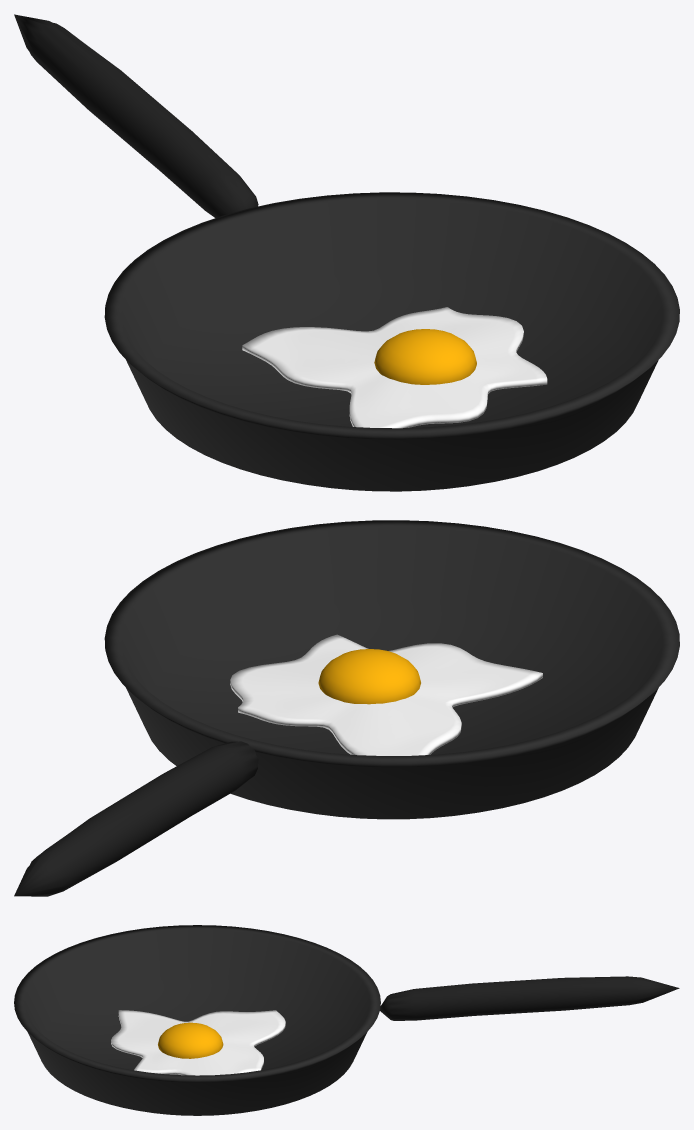
File: props-fryingpan.glb
3 renders of one model, top to bottom at view 1: azimuth 30°, elevation 25°; view 2: azimuth 150°, elevation 25°; view 3: azimuth 270°, elevation 25°, orthographic. The views are drawn at different scales.
Visible parts, largest first — view 1: FryingPan__Pan, FryingPan__EggWhite, FryingPan__Handle, FryingPan__Yolk; view 2: FryingPan__Pan, FryingPan__EggWhite, FryingPan__Handle, FryingPan__Yolk; view 3: FryingPan__Pan, FryingPan__Handle, FryingPan__EggWhite, FryingPan__Yolk.
Part boxes in pixels (x1,y1,x2,y2): FryingPan__Pan: [104, 192, 679, 491]; FryingPan__EggWhite: [242, 307, 547, 428]; FryingPan__Handle: [14, 14, 258, 217]; FryingPan__Yolk: [374, 329, 476, 384]; FryingPan__Pan: [104, 520, 679, 819]; FryingPan__EggWhite: [230, 634, 542, 755]; FryingPan__Handle: [14, 741, 258, 896]; FryingPan__Yolk: [318, 649, 420, 704]; FryingPan__Pan: [14, 925, 380, 1115]; FryingPan__Handle: [380, 976, 679, 1020]; FryingPan__EggWhite: [111, 1010, 285, 1075]; FryingPan__Yolk: [158, 1022, 223, 1058].
Size of the model in its own units: 26.8 by 6.1 by 48.64.
